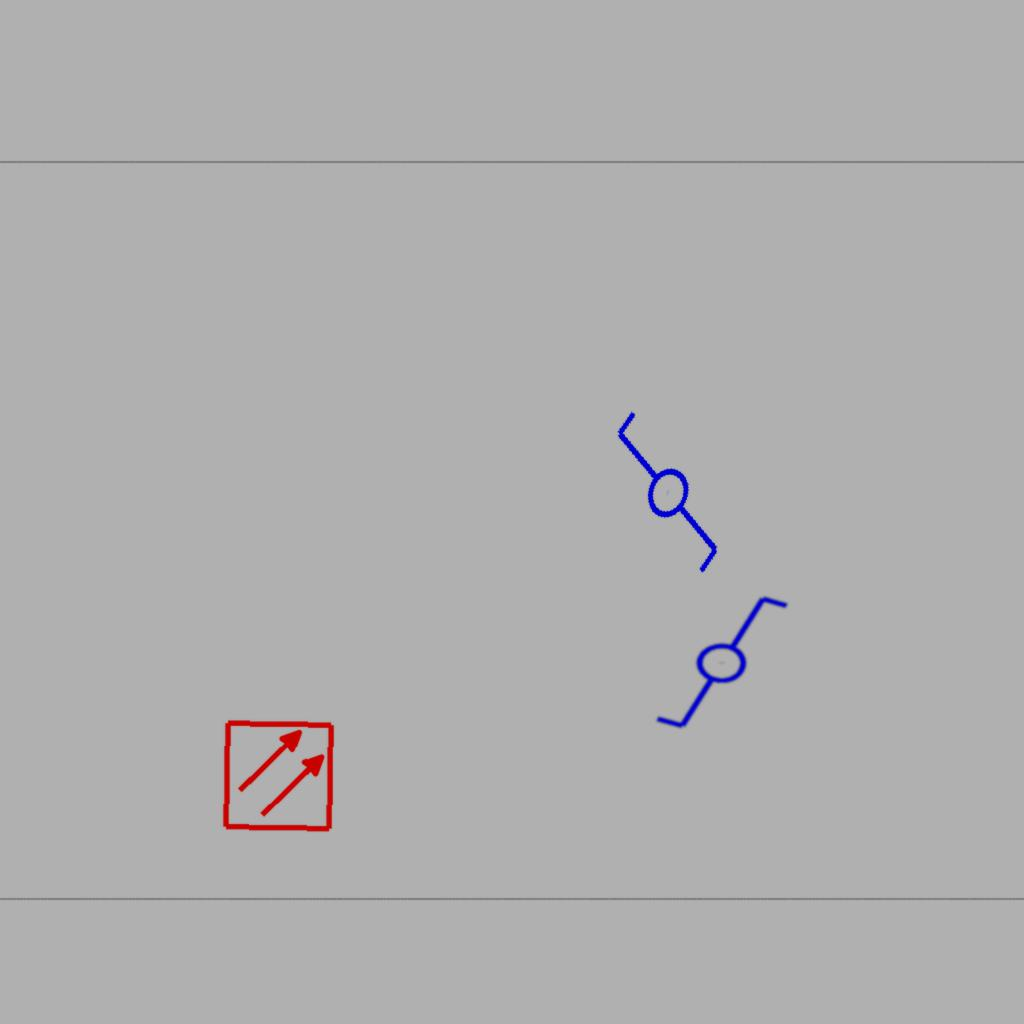RMO_Rauchmelder_optischer: (221, 718, 336, 833)
Wechselschalter: (570, 403, 757, 597), (635, 589, 792, 733)
